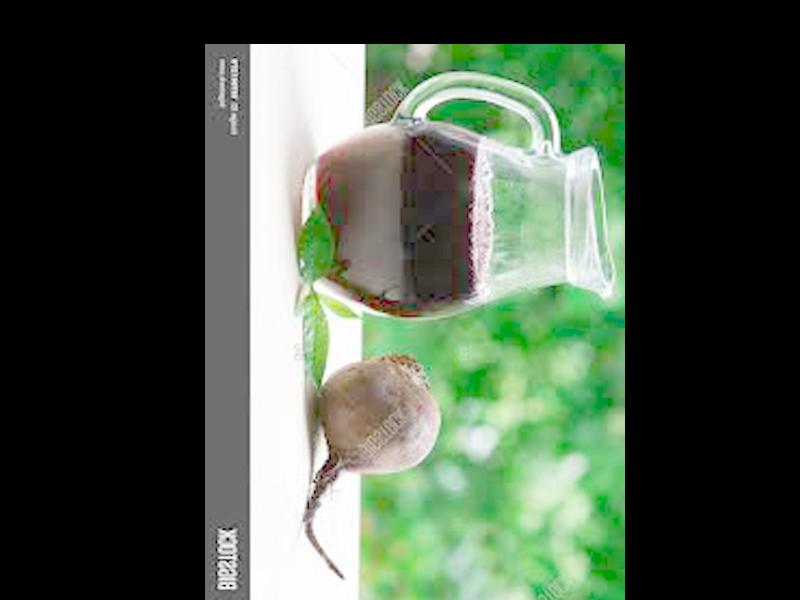Beet: (302, 355, 438, 577)
